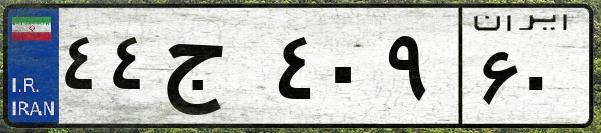0: (330, 28, 385, 110), (525, 38, 570, 115)
4: (270, 28, 330, 110), (57, 26, 110, 100), (110, 28, 158, 98)
6: (475, 38, 525, 113)
9: (385, 28, 445, 110)
ج: (158, 20, 270, 120)
